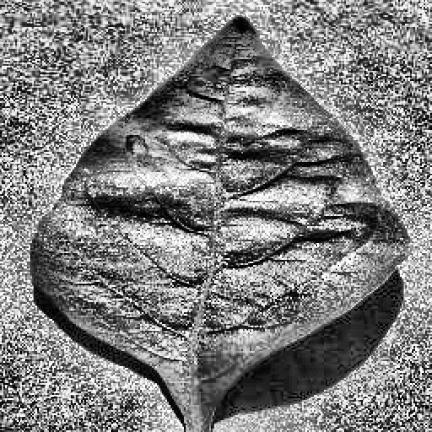leaf: (32, 17, 410, 430)
